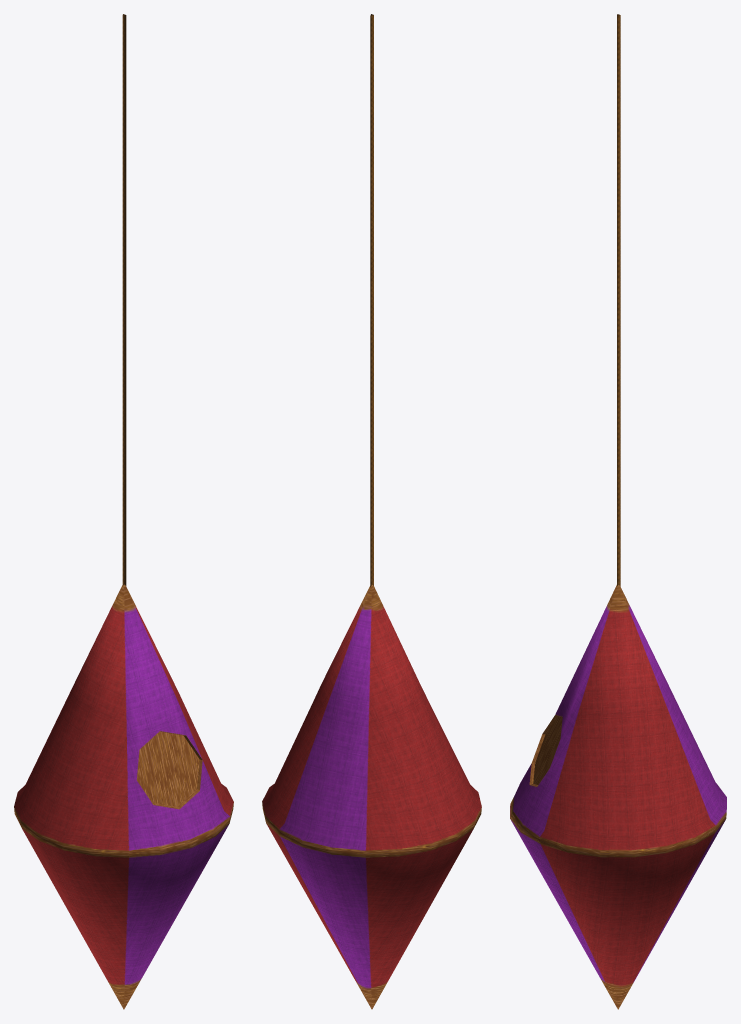
File: Trogo_7.fbx
3 renders of one model, left to right at view 1: azimuth 30°, elevation 25°; view 2: azimuth 150°, elevation 25°; view 3: azimuth 270°, elevation 25°, orthographic.
Visible parts, largest first — view 1: Trogo_7; view 2: Trogo_7; view 3: Trogo_7.
Part boxes in pixels (<box>): Trogo_7: <box>14,14,233,1009</box>; Trogo_7: <box>262,14,481,1009</box>; Trogo_7: <box>510,14,726,1009</box>.
Bounding box in the file's own units: 247 × 1248 × 247.
Materials: 2 (2 with a texture image).
